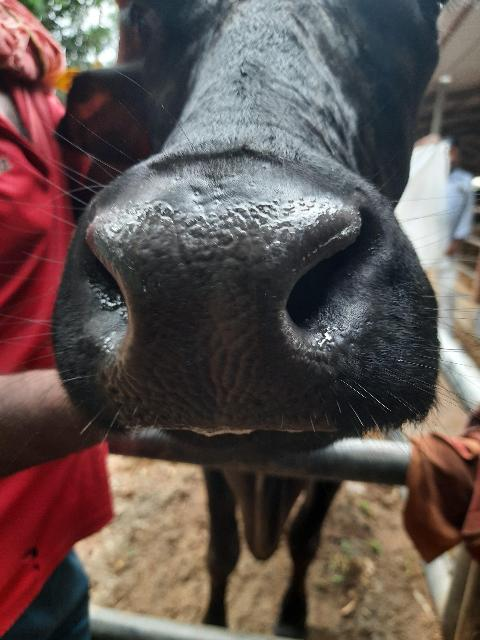Muzzle: (89, 202, 315, 418)
